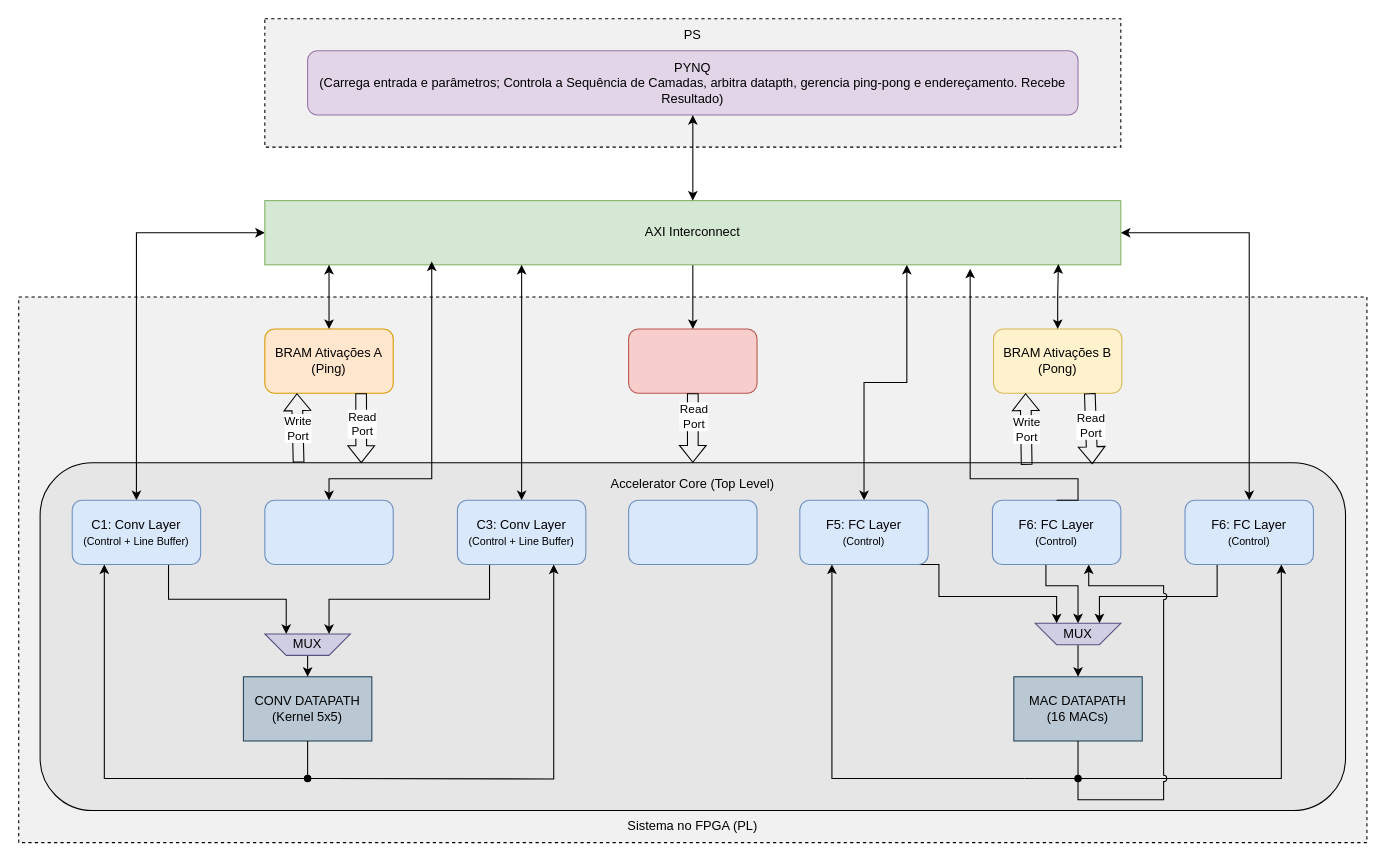
This 1386x861 diagram has some shape labels left out. Here are the shapes that lost their labels. From the top down, the centre of each, then its label:
At point (692, 360): "BRAM Pesos/Bias (Read-only para o datapath)".
At point (328, 531): "S2: Pool Layer (Line Buffer + Max Datapath + Control)".
At point (692, 531): "S4: Pool Layer (Line Buffer + Max Datapath + Control)".
